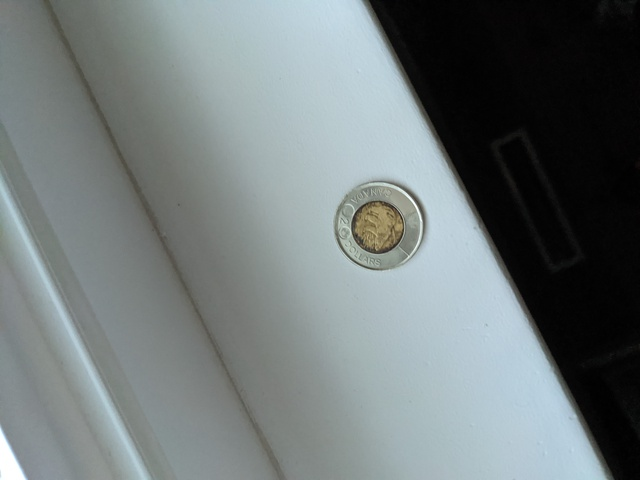twonie: (319, 167, 445, 276)
